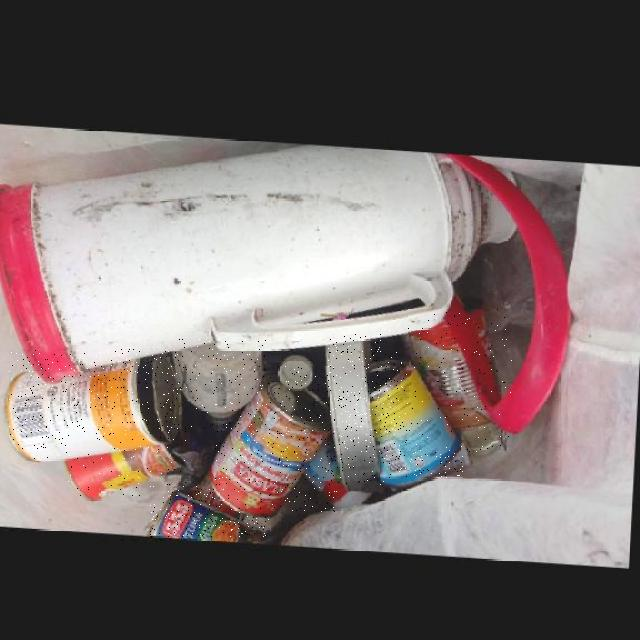metal: (10, 349, 186, 460), (215, 367, 337, 513), (409, 310, 512, 453), (371, 352, 463, 478), (329, 334, 385, 485), (68, 440, 187, 498), (151, 486, 270, 537)
plastic: (177, 338, 267, 429)
